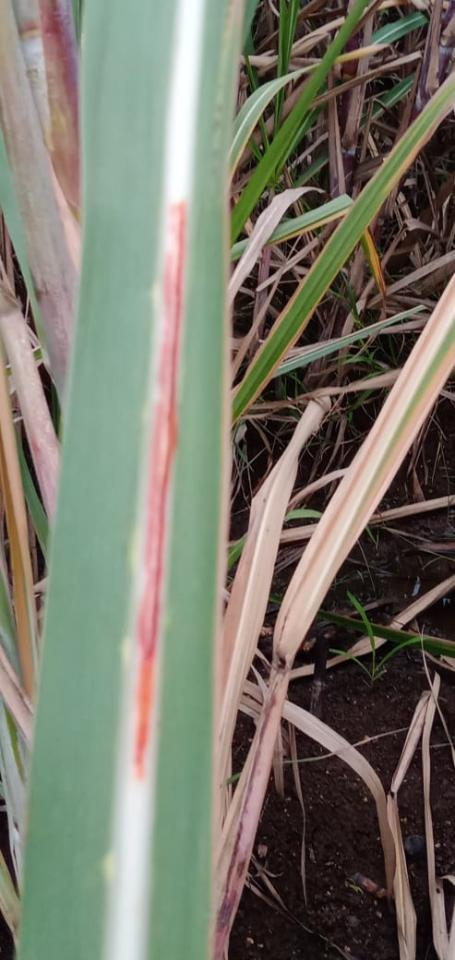RedRot: (134, 199, 184, 783)
Yellow: (209, 162, 232, 959)
